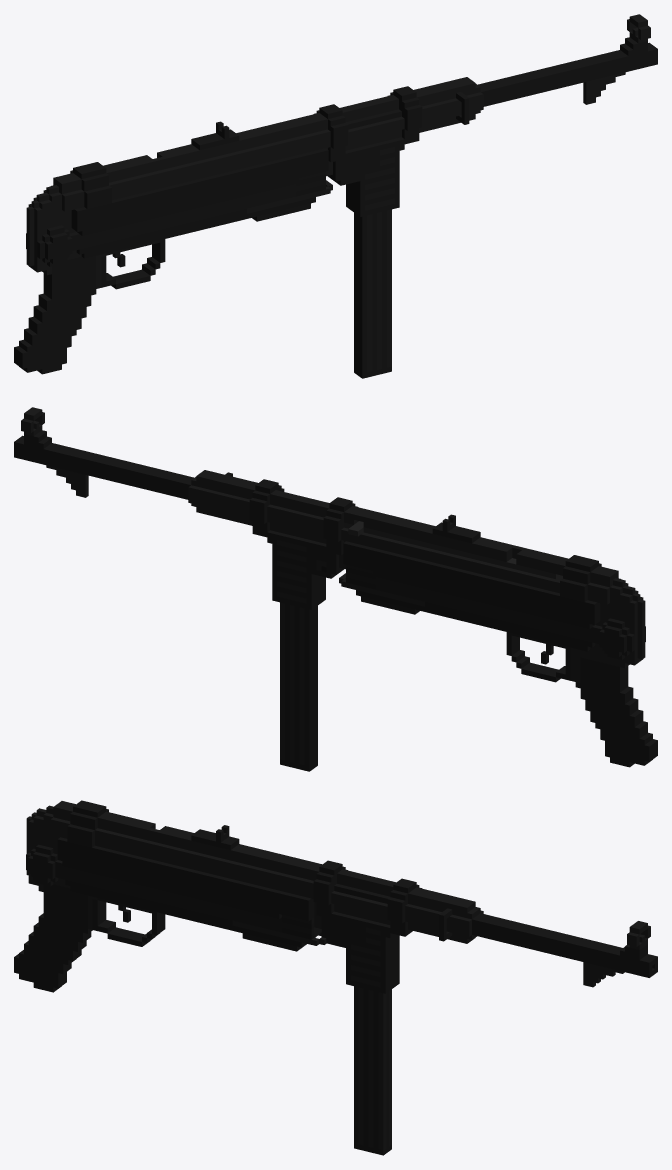
Rendered from Mp40_prefab_folded_stock.obj.
3 views of the same model, one above another, from view 1: azimuth 30°, elevation 25°; view 2: azimuth 150°, elevation 25°; view 3: azimuth 330°, elevation 25° (orthographic).
Bounding box in the file's own units: 12.9 × 5.6 × 0.8.
1 material, 1 textured.
